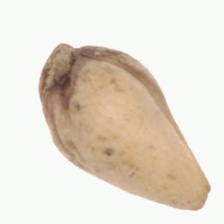L1: (38, 42, 81, 102), (189, 177, 212, 213)
L2: (38, 43, 211, 211)
